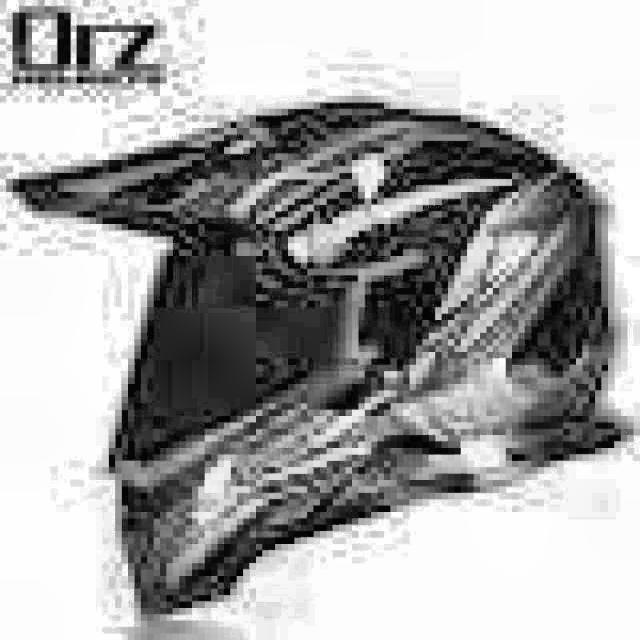Helmet: (7, 91, 640, 624)
